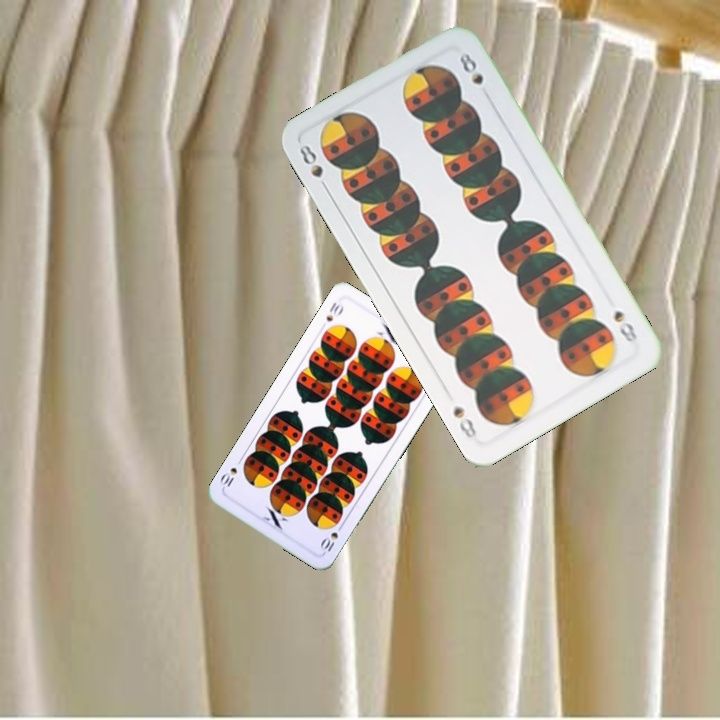S10: (316, 519, 346, 554), (322, 298, 346, 324)
S8: (295, 140, 332, 195), (609, 306, 640, 346)
